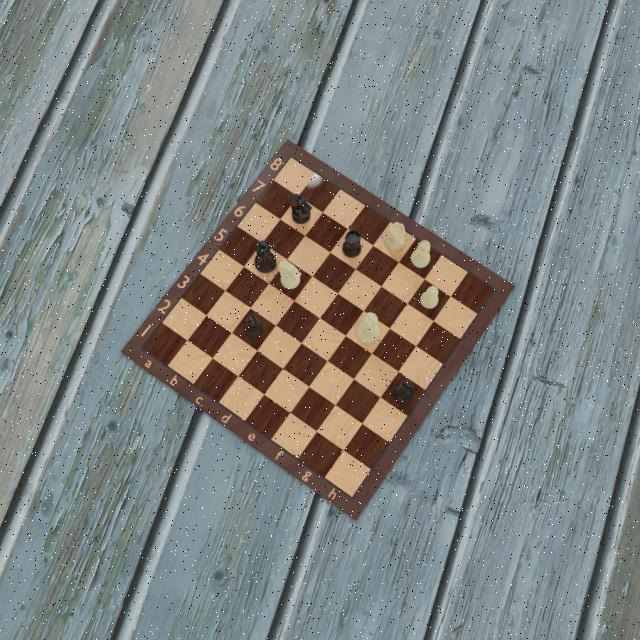black-bishop: (391, 379, 414, 405)
black-king: (254, 240, 277, 274)
black-knight: (290, 194, 311, 226)
black-pawn: (243, 315, 264, 340)
black-rook: (341, 230, 363, 258)
white-bishop: (410, 239, 432, 269)
white-king: (355, 309, 380, 344)
white-knight: (278, 258, 302, 290)
white-pawn: (419, 285, 441, 311)
white-rook: (384, 221, 407, 253)
